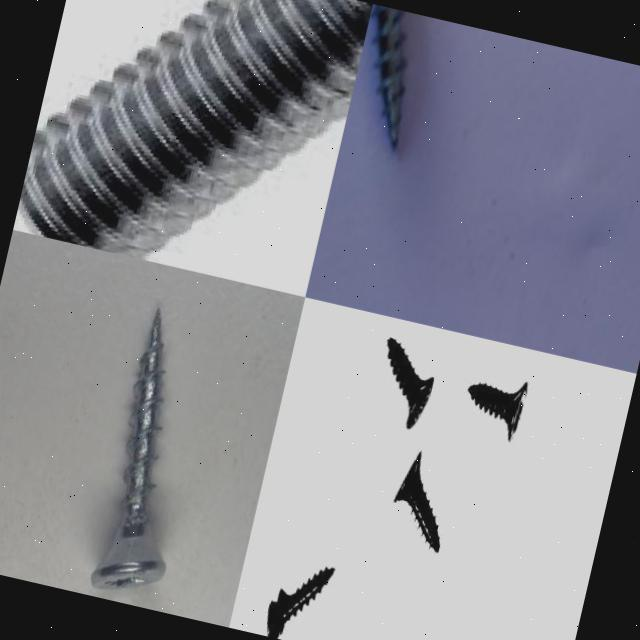Screw: (16, 0, 372, 261), (82, 301, 226, 608), (266, 567, 333, 638), (374, 4, 406, 149), (394, 451, 439, 551), (387, 336, 433, 427), (468, 380, 528, 440)
